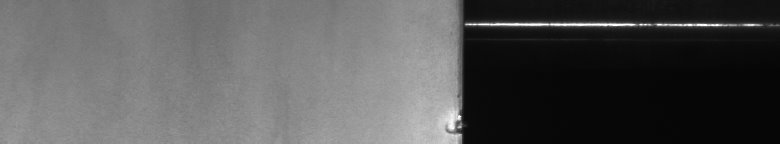hb: (444, 115, 452, 136)
